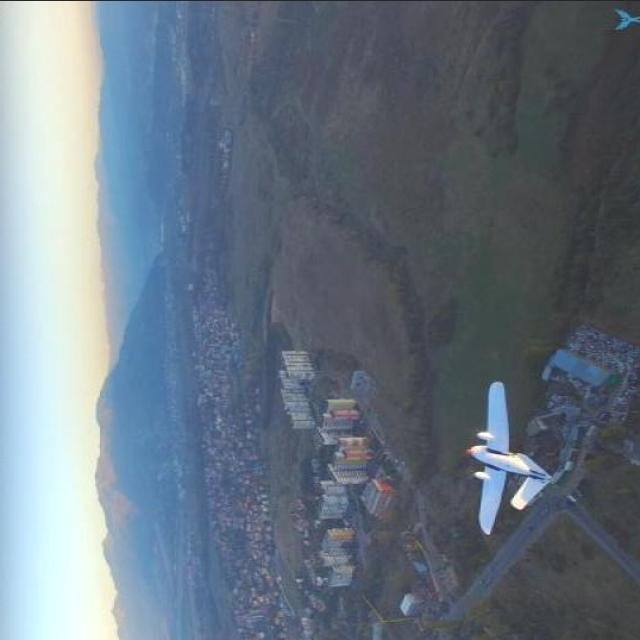plane: (462, 377, 554, 534)
